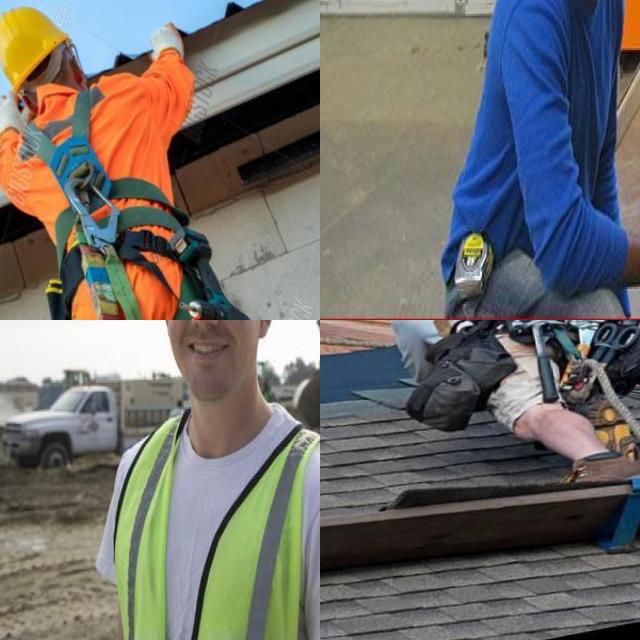Harness: (19, 87, 189, 308), (427, 320, 581, 408)
No_Ear-Protection: (254, 320, 278, 345)
face_nomask: (164, 320, 268, 410)
person: (95, 320, 320, 640)
vest: (99, 394, 316, 639)
